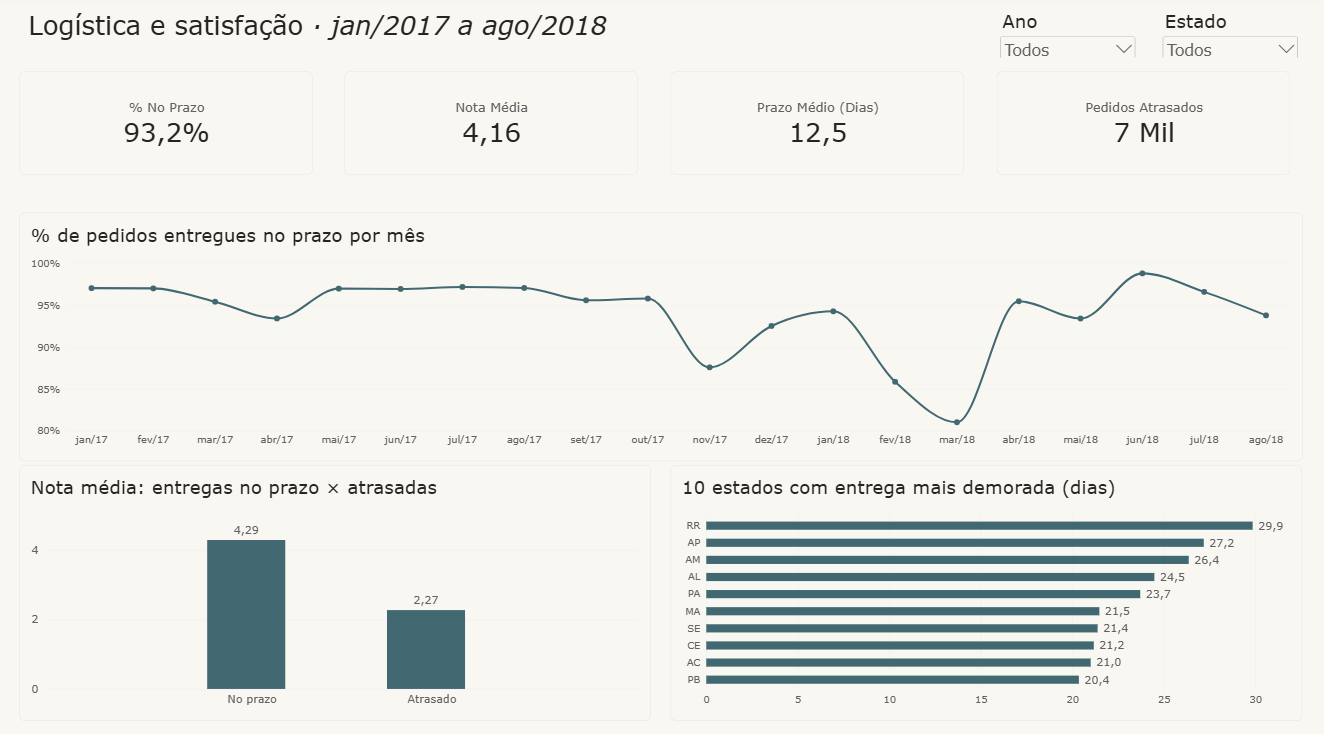

What the dashboard file says about the page in this screenshot:
{"tool":"powerbi","page":{"name":"Logística e satisfação","canvas":[1920,1080],"ordinal":1},"visuals":[{"type":"cardVisual","fields":{"Data":["vw_fato_vendas.% No Prazo"]},"box":[30.8,110,442,150],"z":0},{"type":"cardVisual","fields":{"Data":["vw_fato_vendas.Nota Média"]},"box":[502,110,442,150],"z":1},{"type":"cardVisual","fields":{"Data":["vw_fato_vendas.Prazo Médio de Entrega"]},"box":[974,110,442,150],"z":2},{"type":"cardVisual","fields":{"Data":["vw_fato_vendas.Pedidos Atrasados"]},"box":[1446,110,442,150],"z":3},{"type":"textbox","box":[30,20,1000,70],"z":4},{"type":"slicer","fields":{"Values":["Calendario.Ano"]},"box":[1446,20,206,70],"z":5},{"type":"slicer","fields":{"Values":["vw_dim_clientes.estado"]},"box":[1682,20,206,70],"z":6}]}

Visuals, with their boxes in screenshot pixels (x1, y1, x2, y2), scaled from the page's 1920x1080 canvas onto the 1324x734 screenshot:
cardVisual - vw_fato_vendas.% No Prazo: rect(21, 75, 326, 177)
cardVisual - vw_fato_vendas.Nota Média: rect(346, 75, 651, 177)
cardVisual - vw_fato_vendas.Prazo Médio de Entrega: rect(672, 75, 976, 177)
cardVisual - vw_fato_vendas.Pedidos Atrasados: rect(997, 75, 1302, 177)
textbox: rect(21, 14, 710, 61)
slicer - Calendario.Ano: rect(997, 14, 1139, 61)
slicer - vw_dim_clientes.estado: rect(1160, 14, 1302, 61)
